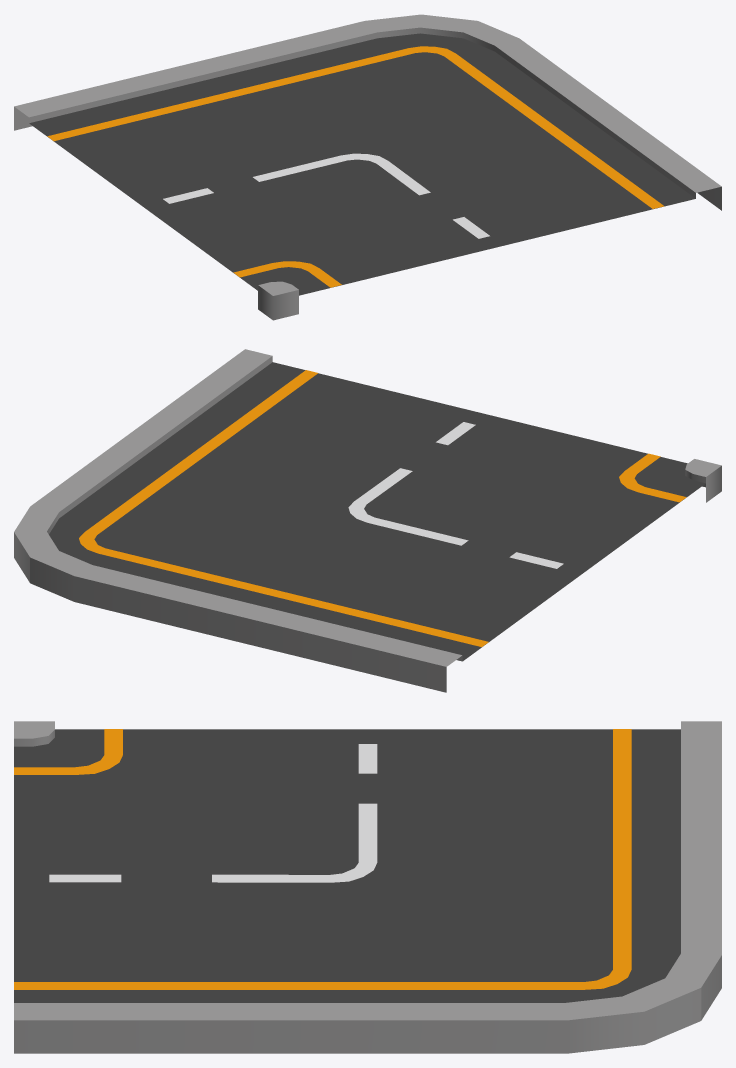
Rendered from Road_A_9.glb.
The picture shows the model from 3 angles, top to bottom: view 1: azimuth 30°, elevation 25°; view 2: azimuth 150°, elevation 25°; view 3: azimuth 270°, elevation 25°; orthographic projection. The views are drawn at different scales.
Parts seen in each view (by area): view 1: Road_A_9; view 2: Road_A_9; view 3: Road_A_9.
Boxes of the visible parts, <box> form: Road_A_9: <box>14,14,721,320</box>; Road_A_9: <box>14,349,721,692</box>; Road_A_9: <box>14,721,721,1053</box>.
Size of the model in its own units: 8 by 0.4148 by 8.
1 material, 1 textured.
